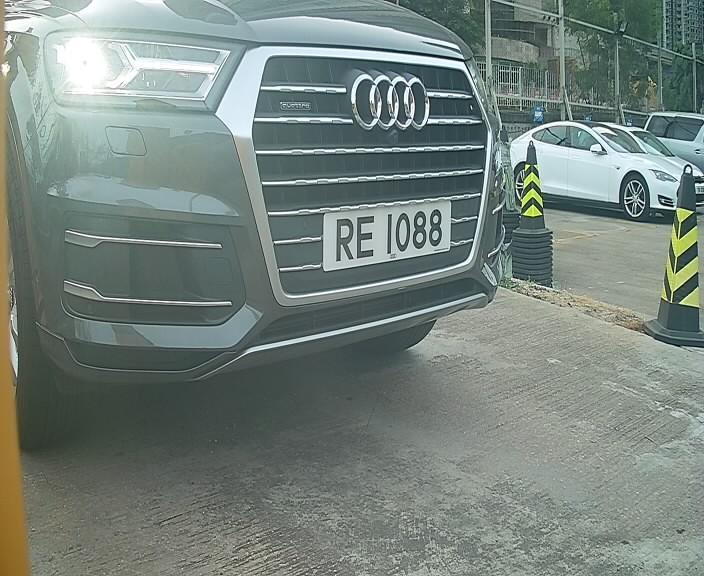License Plate: (309, 191, 463, 281)
